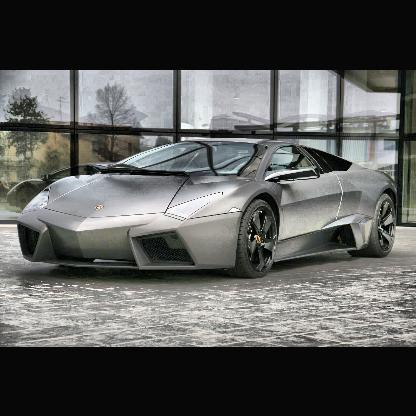Lamborghini Reventon Coupe 2008: (19, 137, 404, 278)
